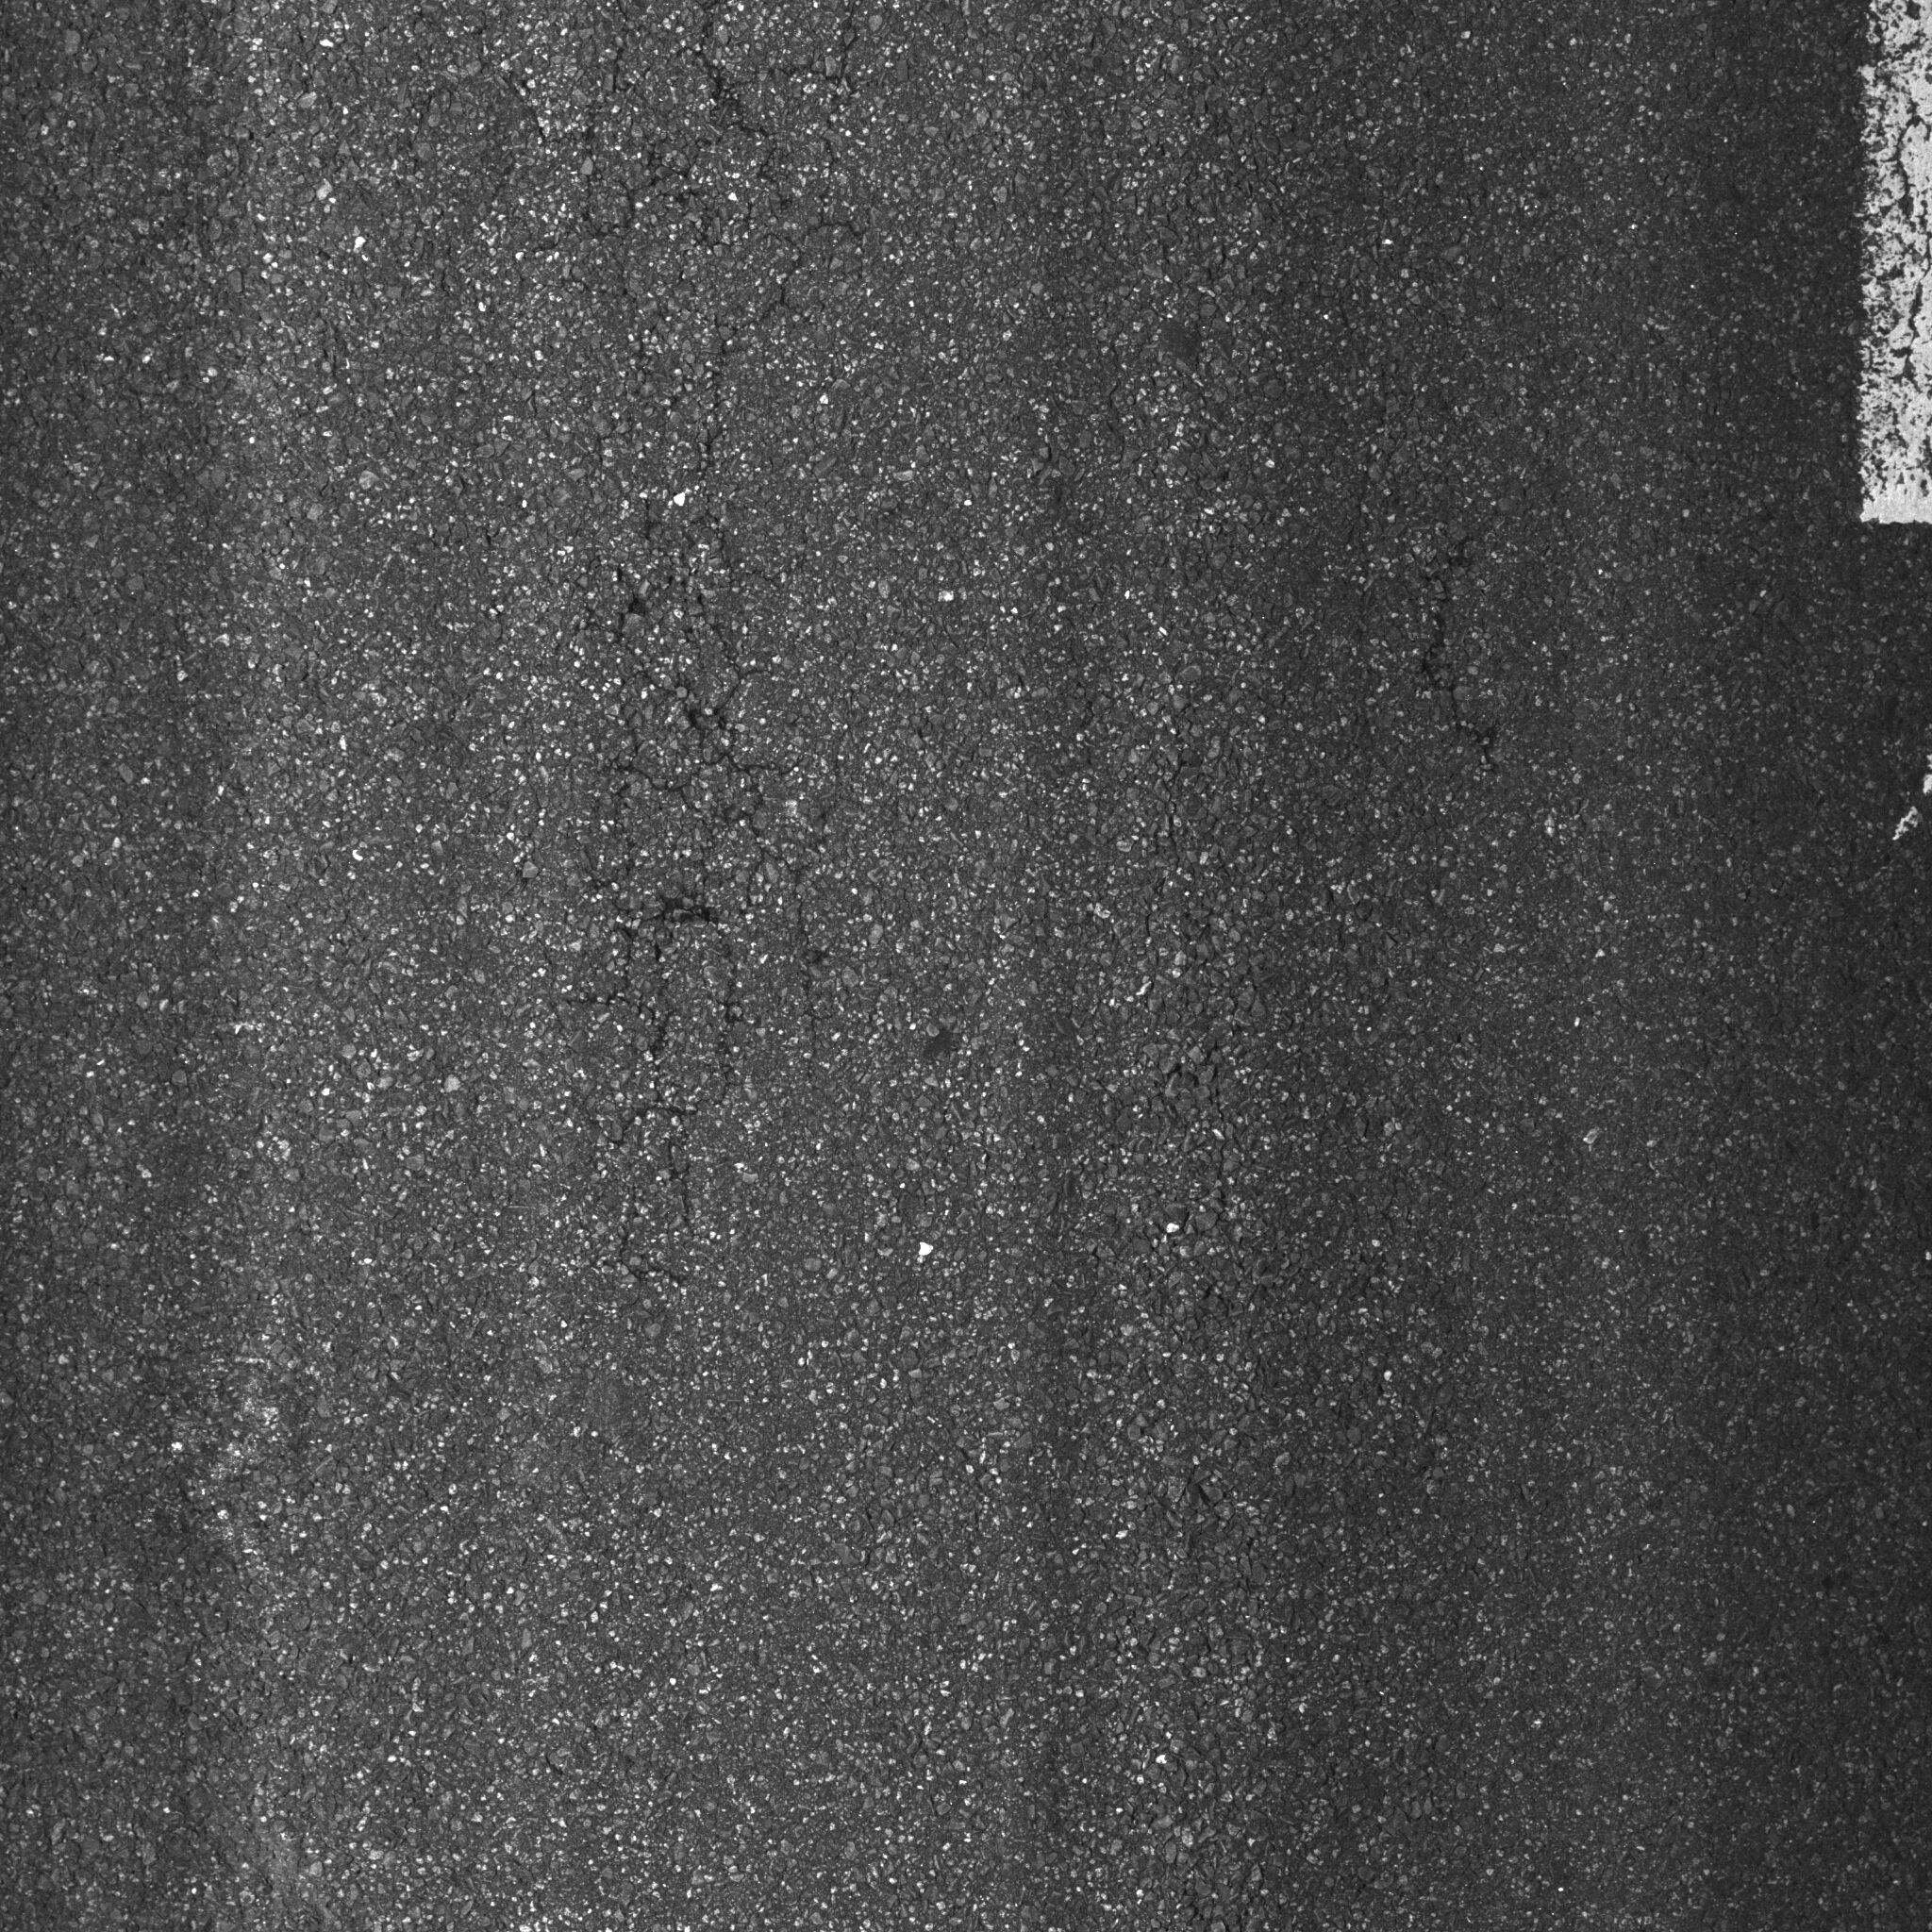alligator: (522, 53, 941, 1111)
